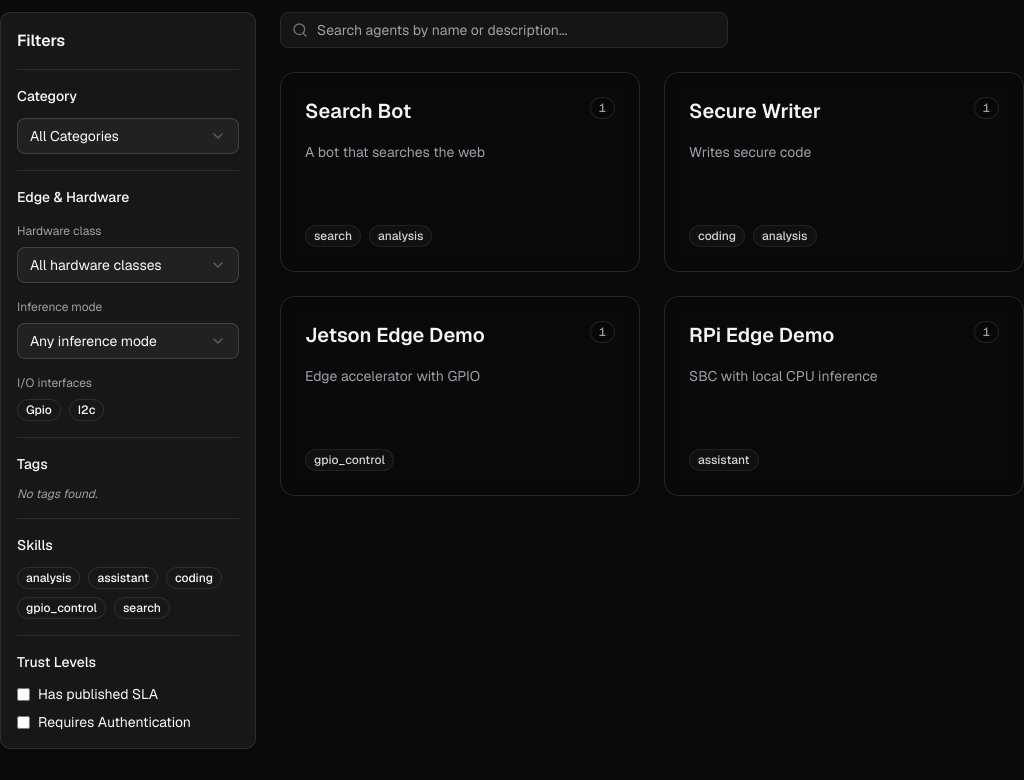
Test: BrowseContent › filters agents by skill selection
Expected: the text "Search Bot" is shown, x1=305 y1=97 x2=411 y2=125
Expected: the text "Secure Writer" is shown, x1=689 y1=97 x2=821 y2=125
Click the text "coding" below "Skills" at (194,578), box x1=166 y1=567 x2=222 y2=589
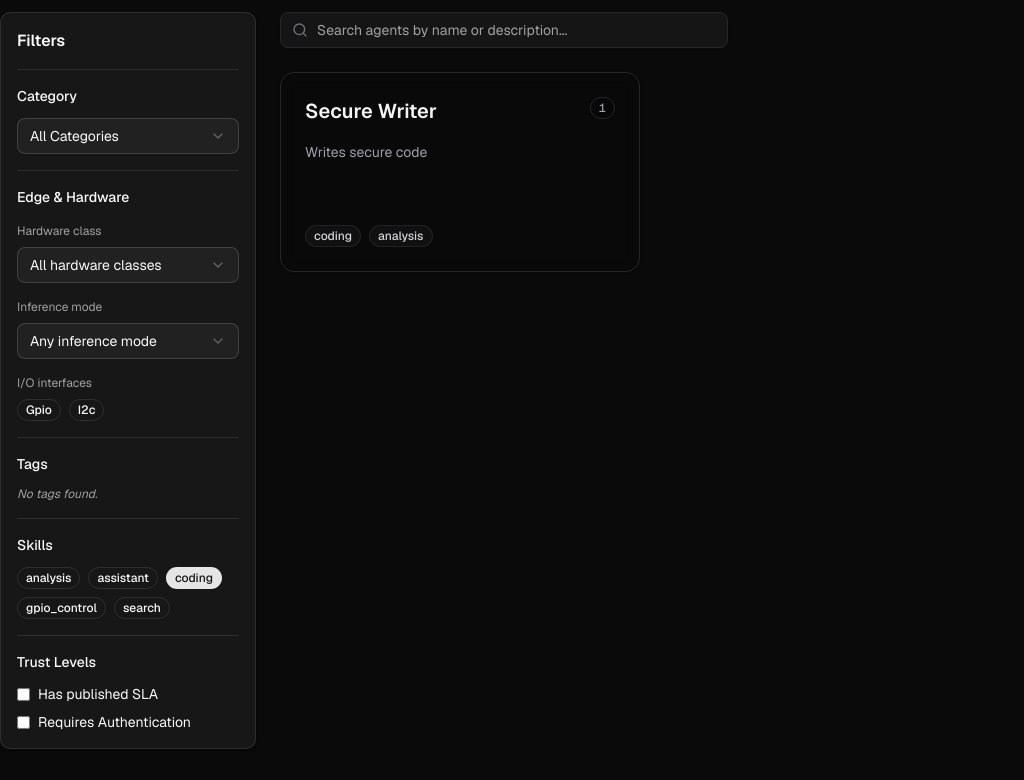
Expected: the text "Secure Writer" is shown, x1=305 y1=97 x2=437 y2=125
Now the link "Search Bot" is gone
